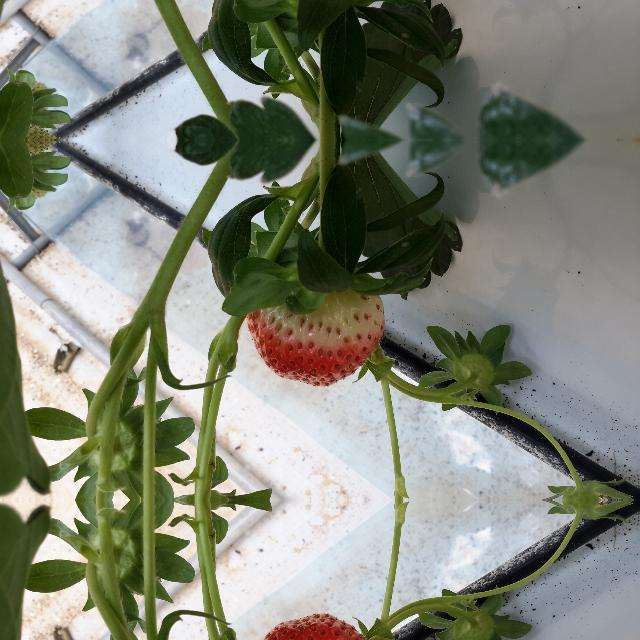Health_100: (246, 290, 384, 386), (245, 614, 384, 640)
